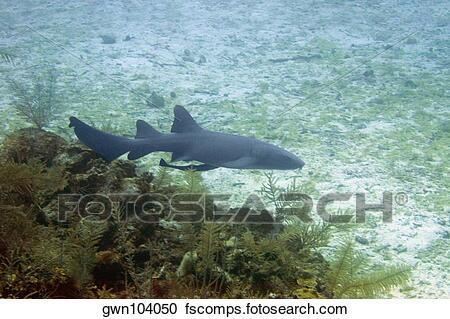fish: (67, 106, 305, 172)
